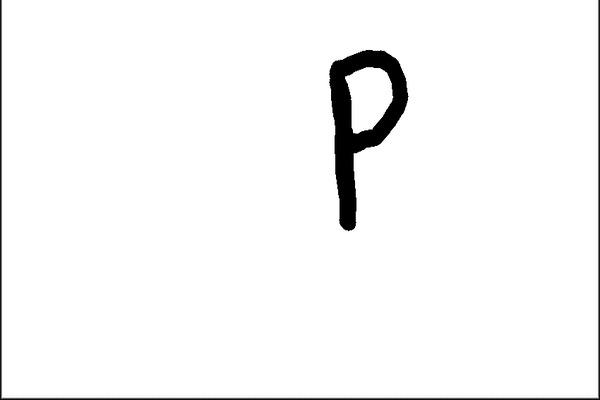P: (308, 40, 415, 251)
